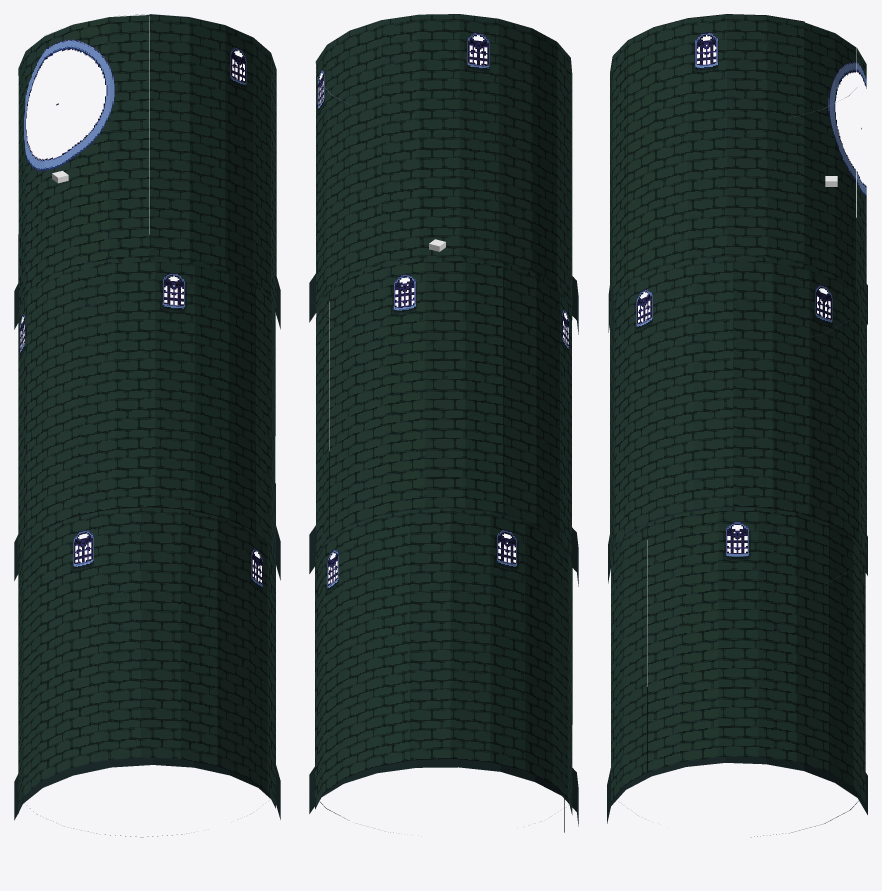
The model's file is spookyjam_walls.gltf.
3 renders of one model, left to right at view 1: azimuth 30°, elevation 25°; view 2: azimuth 150°, elevation 25°; view 3: azimuth 270°, elevation 25°, orthographic.
Visible parts, largest first — view 1: walls (×2), walls3, coveragebot, coveragemid; view 2: walls (×2), walls3, coveragebot, coveragemid, coveragetop; view 3: walls (×2), walls3, coveragebot, coveragemid.
Part boxes in pixels (x1,y1,x2,y2): walls (×2): (18,257,275,813); walls3: (18,14,276,315); coveragebot: (14,757,280,837); coveragemid: (14,507,280,597); walls (×2): (315,257,572,832); walls3: (315,14,572,319); coveragebot: (309,758,578,832); coveragemid: (309,508,578,593); coveragetop: (309,273,578,342); walls (×2): (610,256,866,802); walls3: (610,14,866,317); coveragebot: (607,757,867,837); coveragemid: (608,506,867,597).
Size of the model in its own units: 21.87 by 67.21 by 21.12.
Materials: 2 (1 with a texture image).
